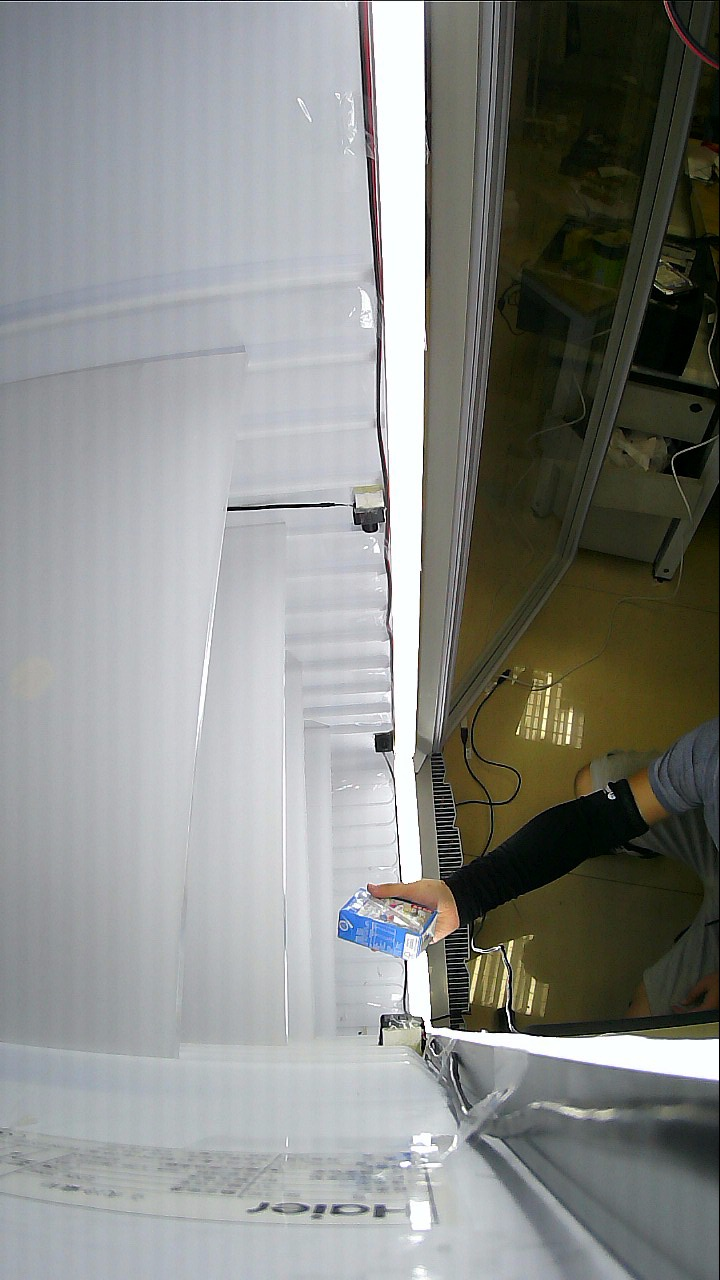VitaSoyOriginal: (342, 872, 560, 985)
